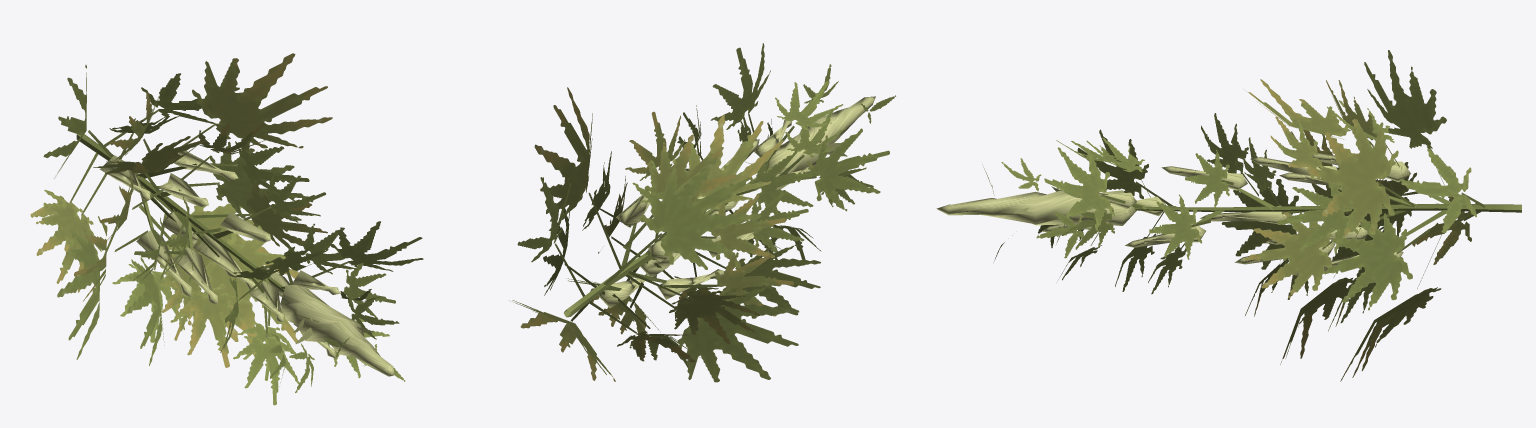
The model's file is p_frosty_landrace_ripe_c1_cards.obj.
3 views of the same model, side by side, from view 1: azimuth 30°, elevation 25°; view 2: azimuth 150°, elevation 25°; view 3: azimuth 270°, elevation 25° (orthographic). The views are drawn at different scales.
Bounding box in the file's own units: 1.33 × 1.35 × 2.13.
Materials: 1 (1 with a texture image).
